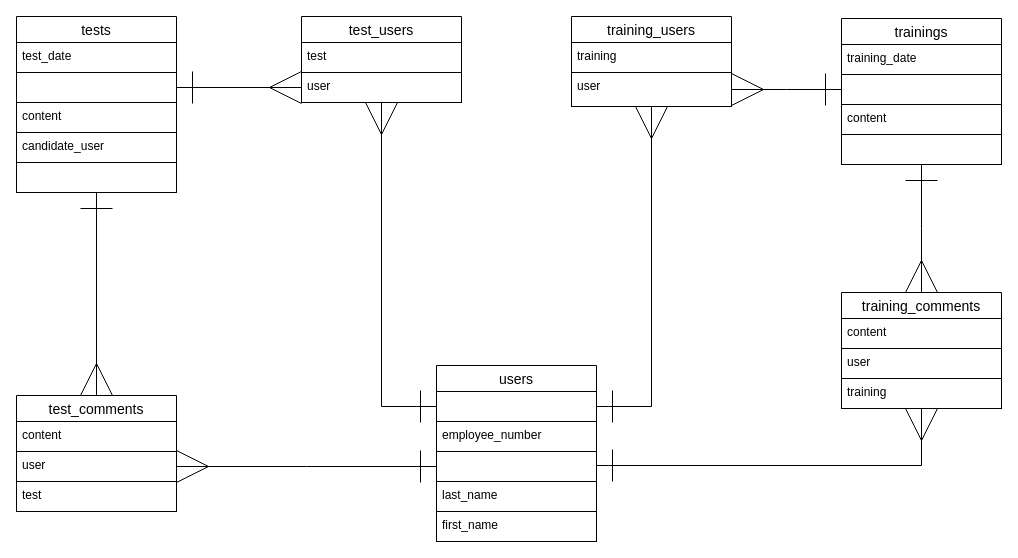
Some shapes in this 1018 by 558 pixel diagram are drawn without their labels. Each missing label, with the centre of its shape:
category_test_id: point (96, 87)
category_training_id: point (921, 89)
director_user: point (96, 177)
email: point (516, 406)
encrypted_password: point (516, 466)
trainer_id: point (921, 149)
